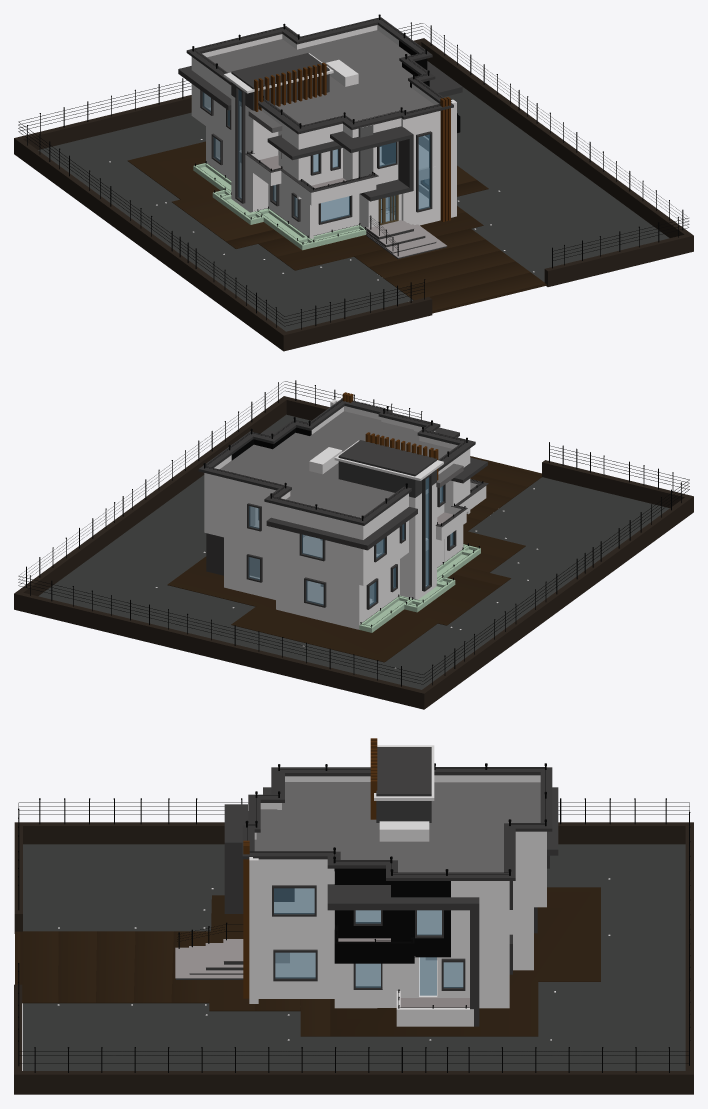
Rendered from exterior-opt.glb.
The picture shows the model from 3 angles, top to bottom: view 1: azimuth 30°, elevation 25°; view 2: azimuth 150°, elevation 25°; view 3: azimuth 270°, elevation 25°; orthographic projection. The views are drawn at different scales.
Visible parts, largest first — view 1: Rectangle007, Line055, Line061, Line015, Line009, Line025, Line017, Box023, Box007, Line012, Line013, Line003 (+22 smaller); view 2: Rectangle007, Line055, Line061, Line015, Line012, Line025, Line001, Line011, Box007, Line002, Box023, Line013 (+12 smaller); view 3: Rectangle007, Line061, Line055, Line015, Line003, Line025, Line011, Line009, Line010, Line023, Box007, Line018 (+24 smaller).
Boxes of the visible parts, left/top/right/bottom form: Rectangle007: left=38, top=61, right=669, bottom=331; Line055: left=14, top=38, right=693, bottom=351; Line061: left=127, top=141, right=547, bottom=313; Line015: left=207, top=30, right=434, bottom=132; Line009: left=261, top=84, right=456, bottom=199; Line025: left=186, top=17, right=453, bottom=134; Line017: left=330, top=126, right=413, bottom=201; Box023: left=193, top=163, right=366, bottom=250; Box007: left=231, top=53, right=329, bottom=110; Line012: left=191, top=34, right=282, bottom=144; Line013: left=231, top=95, right=296, bottom=178; Line003: left=397, top=161, right=456, bottom=225; Rectangle007: left=38, top=414, right=669, bottom=689; Line055: left=14, top=396, right=693, bottom=709; Line061: left=167, top=456, right=541, bottom=662; Line015: left=220, top=411, right=463, bottom=517; Line012: left=274, top=493, right=408, bottom=585; Line025: left=198, top=398, right=475, bottom=525; Line001: left=276, top=559, right=399, bottom=629; Line011: left=204, top=455, right=305, bottom=563; Box007: left=338, top=440, right=436, bottom=497; Line002: left=224, top=537, right=275, bottom=599; Box023: left=359, top=544, right=480, bottom=632; Line013: left=409, top=453, right=468, bottom=553; Rectangle007: left=23, top=844, right=685, bottom=1070; Line061: left=15, top=887, right=600, bottom=1036; Line055: left=14, top=822, right=693, bottom=1094; Line015: left=254, top=782, right=540, bottom=872; Line003: left=249, top=928, right=473, bottom=1009; Line025: left=242, top=767, right=552, bottom=880; Line011: left=451, top=831, right=546, bottom=957; Line009: left=249, top=776, right=370, bottom=934; Line010: left=334, top=868, right=450, bottom=957; Line023: left=327, top=884, right=479, bottom=1026; Box007: left=376, top=747, right=431, bottom=822; Line018: left=275, top=953, right=462, bottom=995.
Size of the model in its own units: 26.93 by 8.7 by 30.69.
